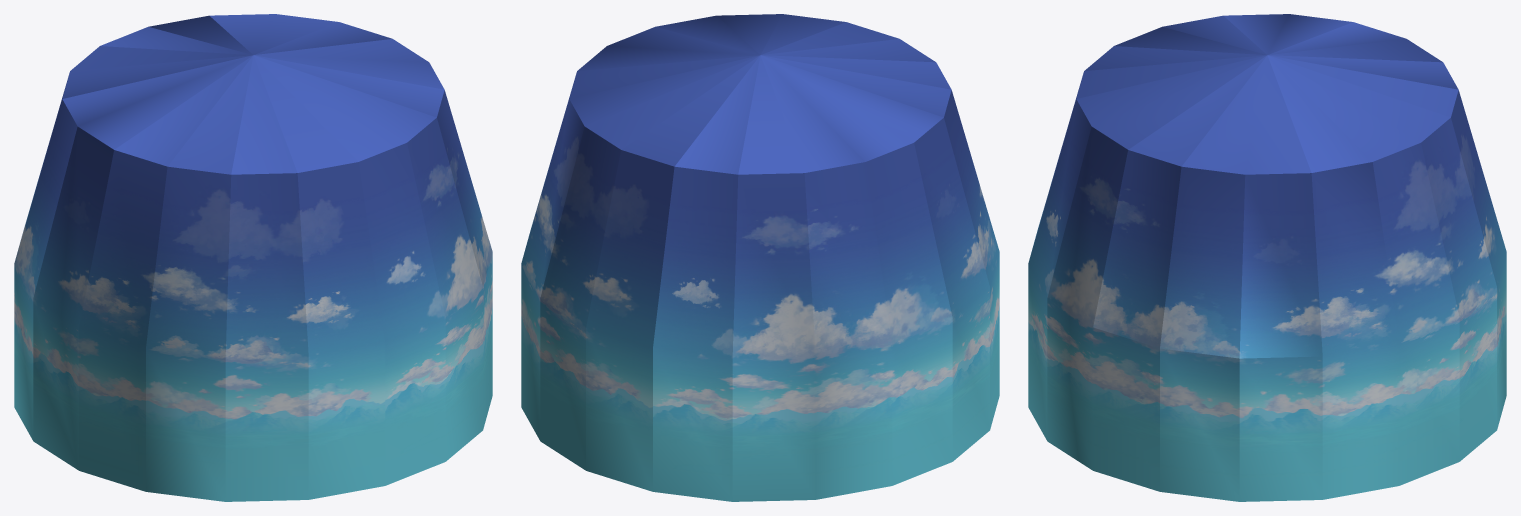
Rendered from stadium.glb.
The picture shows the model from 3 angles, left to right: view 1: azimuth 30°, elevation 25°; view 2: azimuth 150°, elevation 25°; view 3: azimuth 270°, elevation 25°; orthographic projection.
Parts seen in each view (by area): view 1: Object_8; view 2: Object_8; view 3: Object_8.
Boxes of the visible parts, x1,y1,x2,y2 form: Object_8: (14,14,492,501); Object_8: (521,14,999,501); Object_8: (1028,14,1506,501).
Bounding box in the file's own units: 1767 × 1418 × 1776.
Materials: 11 (11 with a texture image).
